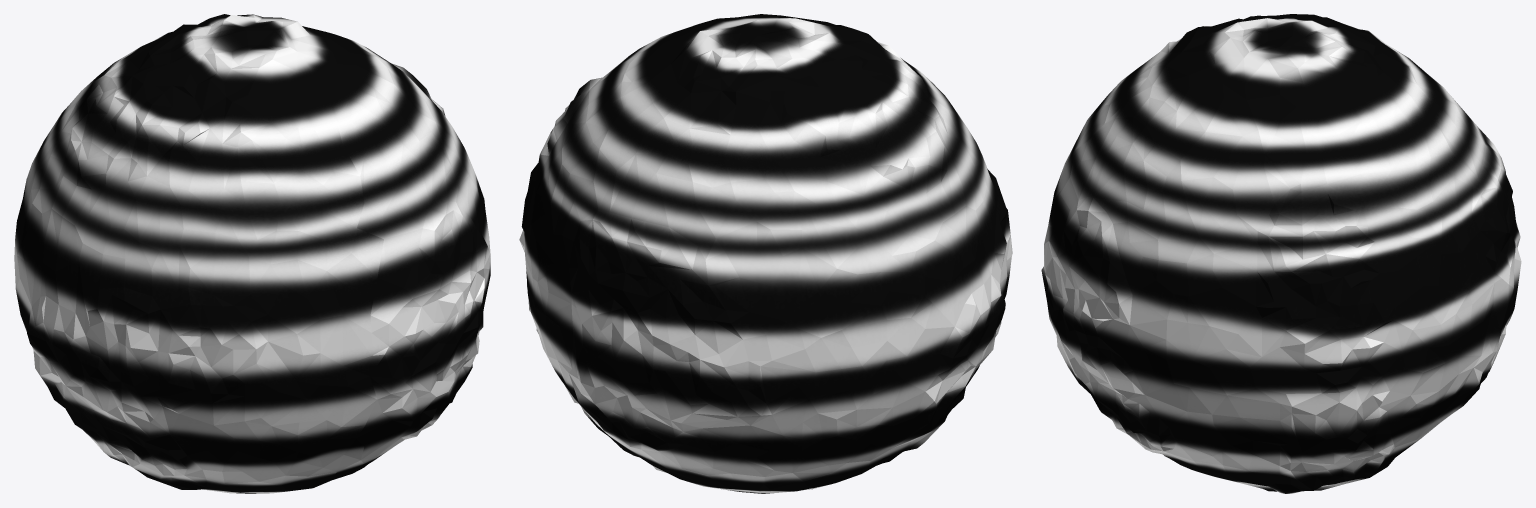
The model's file is SM_Env_Planet_09.fbx.
3 views of the same model, side by side, from view 1: azimuth 30°, elevation 25°; view 2: azimuth 150°, elevation 25°; view 3: azimuth 270°, elevation 25° (orthographic). The views are drawn at different scales.
Visible parts, largest first — view 1: SM_Env_Planet_09_LOD0; view 2: SM_Env_Planet_09_LOD0; view 3: SM_Env_Planet_09_LOD0.
Boxes of the visible parts, x1,y1,x2,y2 form: SM_Env_Planet_09_LOD0: (14, 14, 490, 493); SM_Env_Planet_09_LOD0: (519, 14, 1012, 493); SM_Env_Planet_09_LOD0: (1041, 14, 1521, 493).
Bounding box in the file's own units: 45186 × 45216 × 44889.
1 material, 1 textured.
